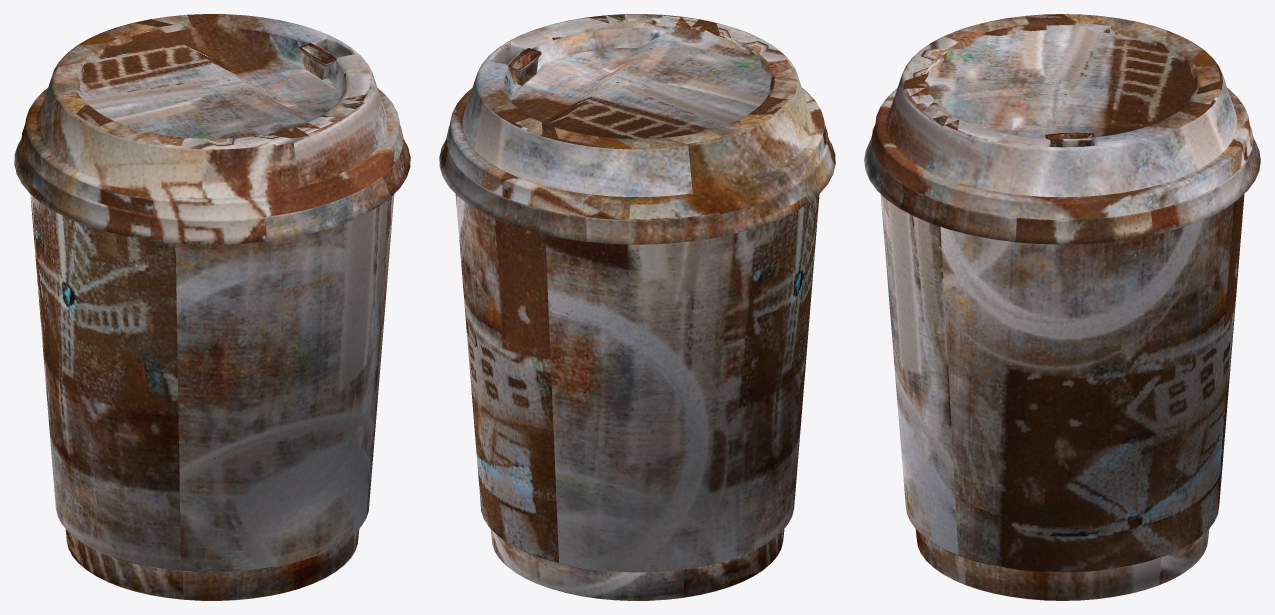
3 renders of one model, left to right at view 1: azimuth 30°, elevation 25°; view 2: azimuth 150°, elevation 25°; view 3: azimuth 270°, elevation 25°, orthographic.
Visible parts, largest first — view 1: texture_v100; view 2: texture_v100; view 3: texture_v100.
Part boxes in pixels (x1,y1,x2,y2): texture_v100: (14,14,410,600); texture_v100: (439,14,835,600); texture_v100: (864,14,1260,600).
Size of the model in its own units: 1.57 by 2 by 1.57.
Materials: 1 (1 with a texture image).
